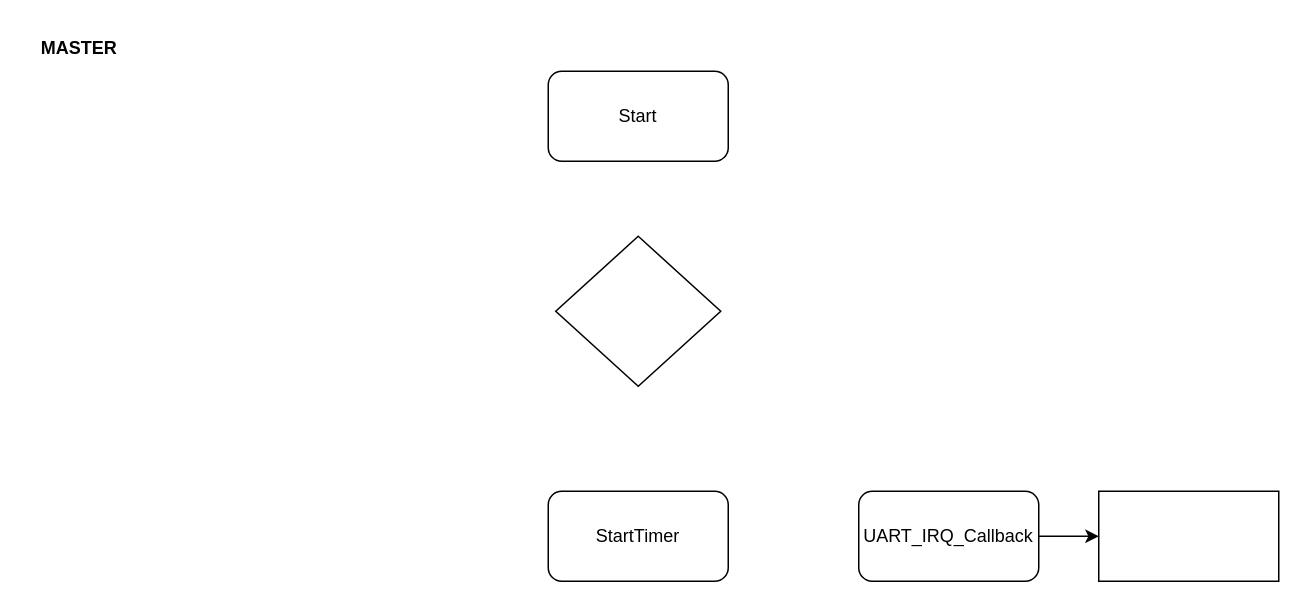
Image size: 1305x608. Some labels were removed from this diagram. Here are the shapes that lost their labels. From the top down, the box of each, then its label:
(554, 235, 721, 386): Fixed GPS && !StartTimer
(1097, 490, 1279, 581): Init TimerCallback
